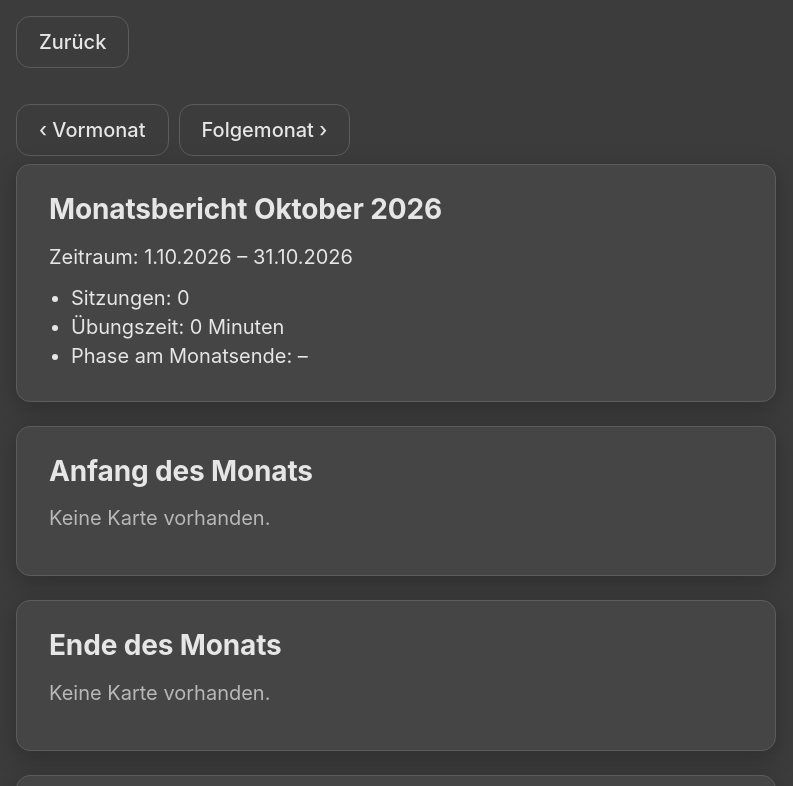
ReportPage › Vormonat und Folgemonat
Click the button "‹ Vormonat" at (92, 130), box [16,104,168,156]
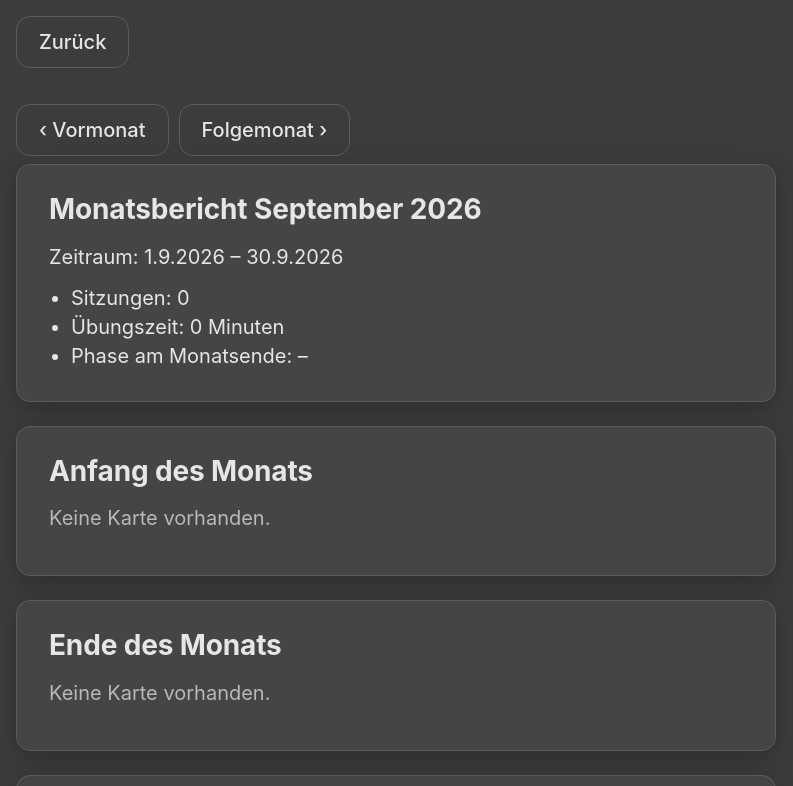
Expected: the text "Monatsbericht September 2026" is shown, [49,192,482,226]
Expected: the text "1.9.2026 – 30.9.2026" is shown, [49,245,343,269]
Click the button "Folgemonat ›" at (264, 130), box [178,104,350,156]
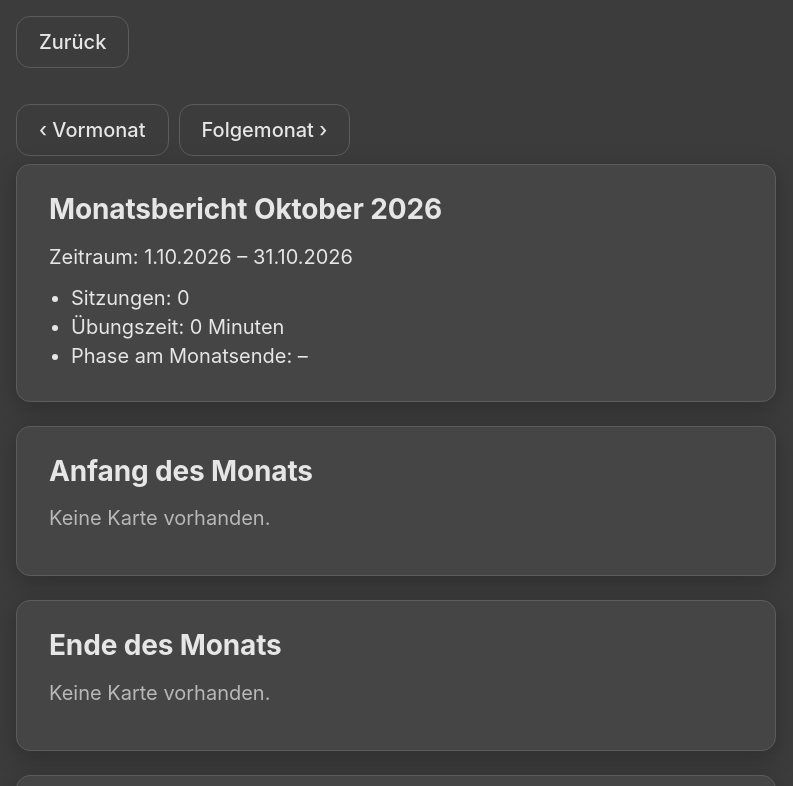
Expected: the text "Monatsbericht Oktober 2026" is shown, [49,192,442,226]
